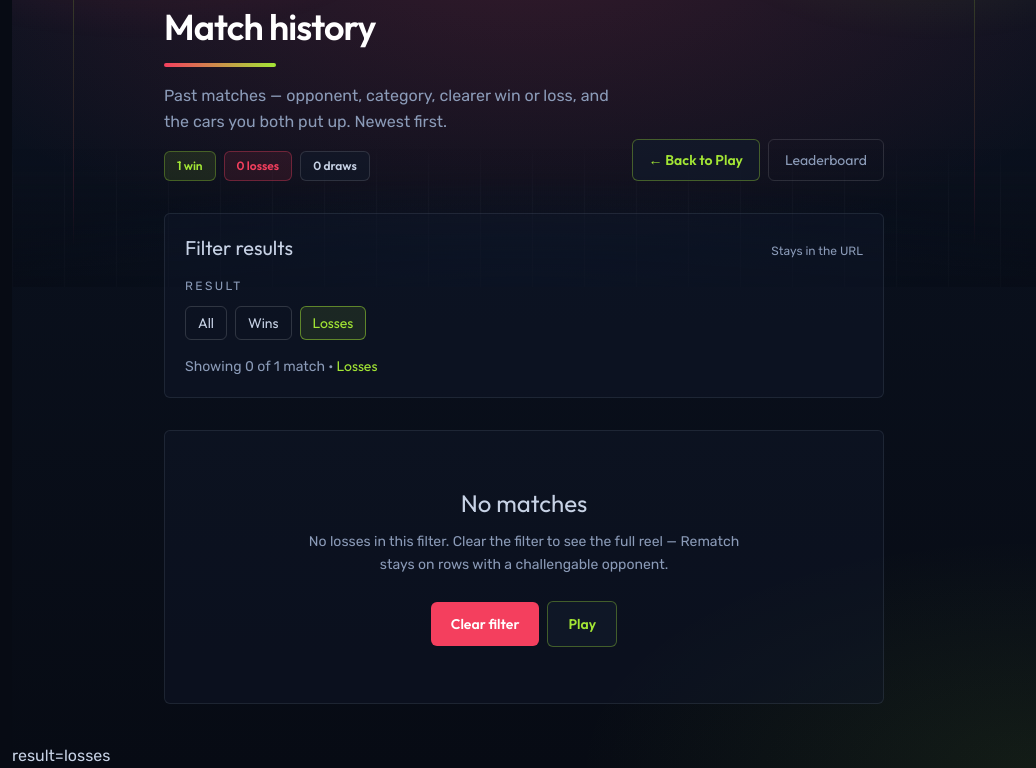
Test: MatchHistoryPage Midnight Garage UI › shows No matches and Clear filter when Wins/Losses yields none
(page scrolled)
Expected: the text "No matches" is shown, [461,488,587,518]
Expected: the message named "No matching match history" is shown, [164,430,884,704]
What coordinates should you click on to do the following:
click the button "Clear filter"
I would click on:
 (485, 624)
Its box is [431,602,540,646].
(page scrolled)
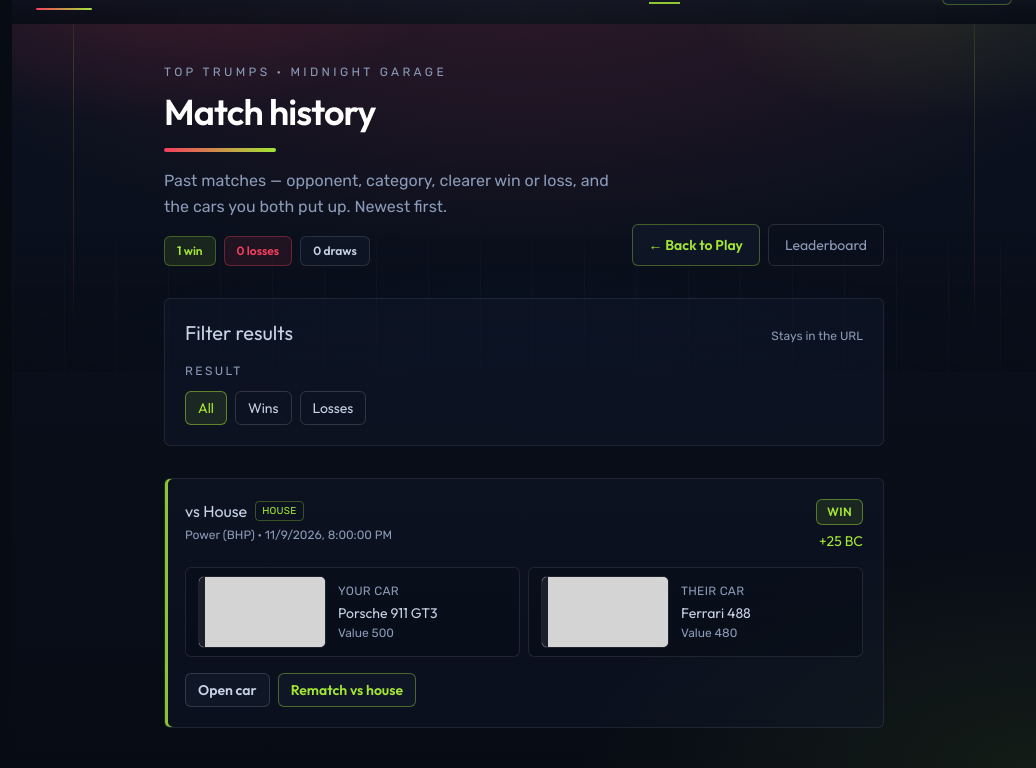
Expected: the text "vs House" is shown, [185,499,247,523]
Expected: the link "Rematch vs house" is shown, [278,673,416,707]
Expected: the text "No matches" is gone
